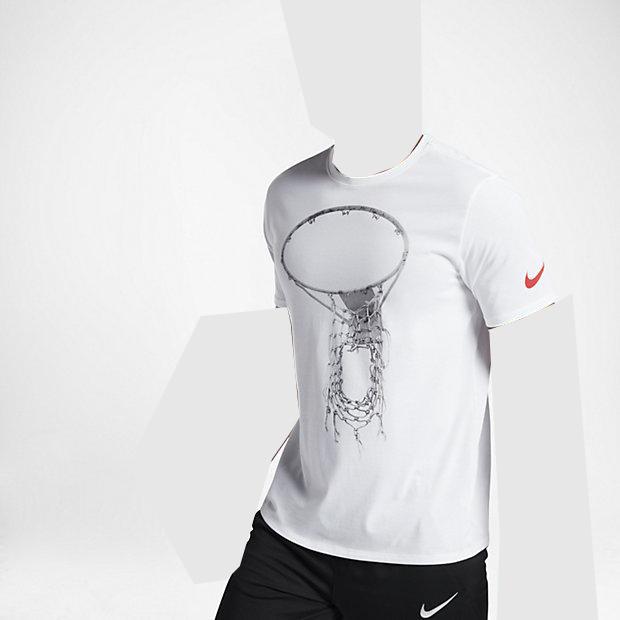teeshirt: (261, 135, 583, 576)
